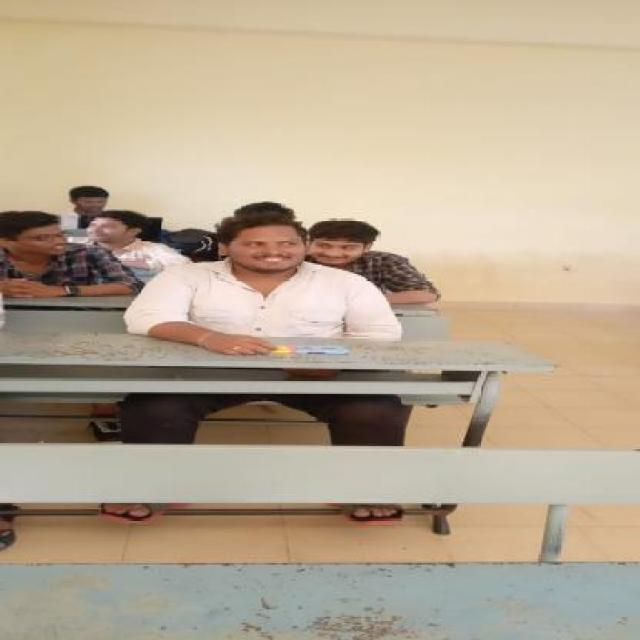cheating: (202, 200, 337, 293), (0, 190, 87, 276)
